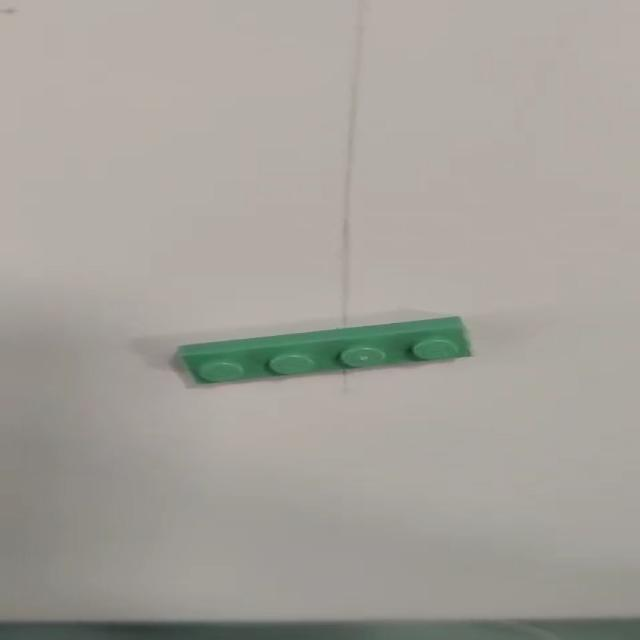C4x1x0: (162, 310, 475, 388)
